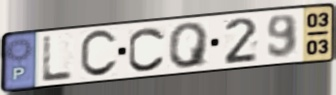2: (222, 16, 261, 66)
9: (265, 13, 299, 60)
C: (78, 28, 120, 80), (126, 25, 167, 73)
L: (39, 34, 75, 84)
Q: (167, 20, 212, 71)
